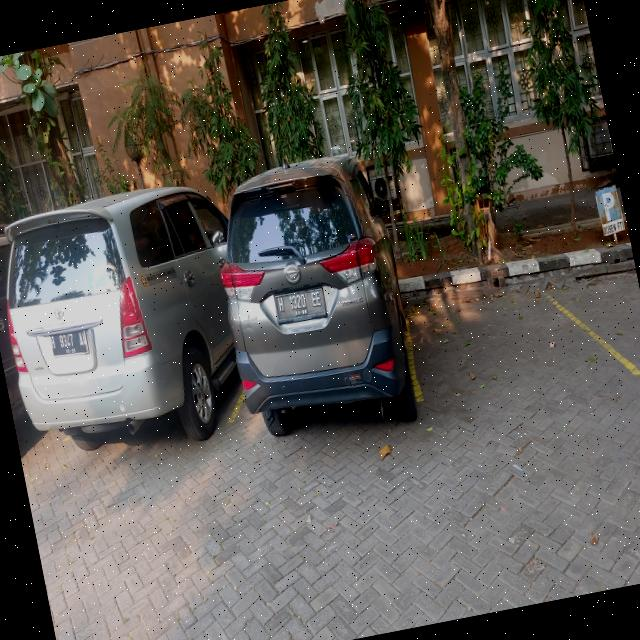empty: (399, 269, 639, 401)
occupied: (6, 188, 241, 478), (223, 153, 428, 450)
